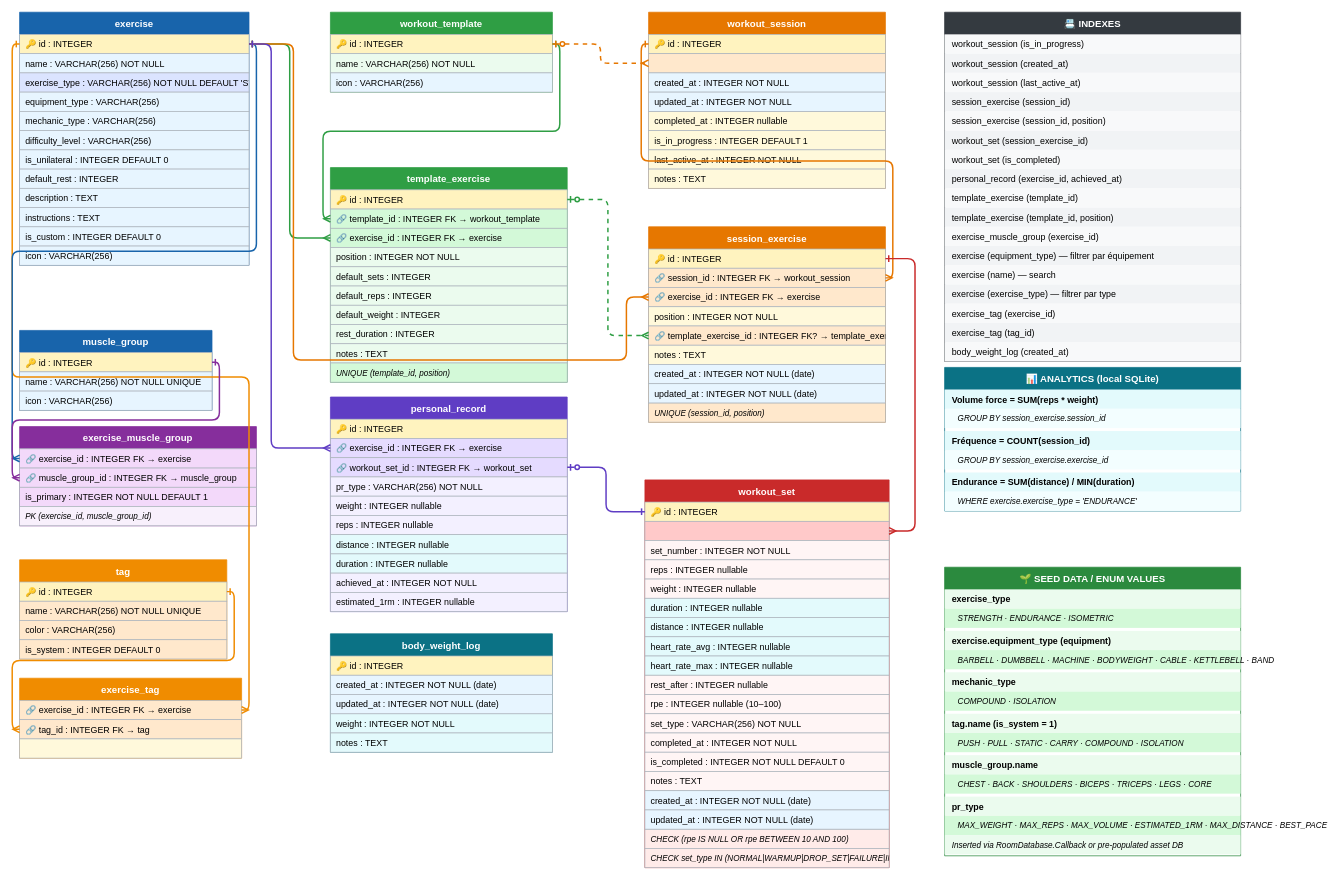
Image size: 1340x880. Some labels were removed from this diagram. Here are the shapes that lost their labels. From the top down, the centre of each, then its label:
[766,63]: 🔗 template_id : INTEGER FK? → workout_template
[766,531]: 🔗 session_exercise_id : INTEGER FK → session_exercise
[130,748]: PK (exercise_id, tag_id)
